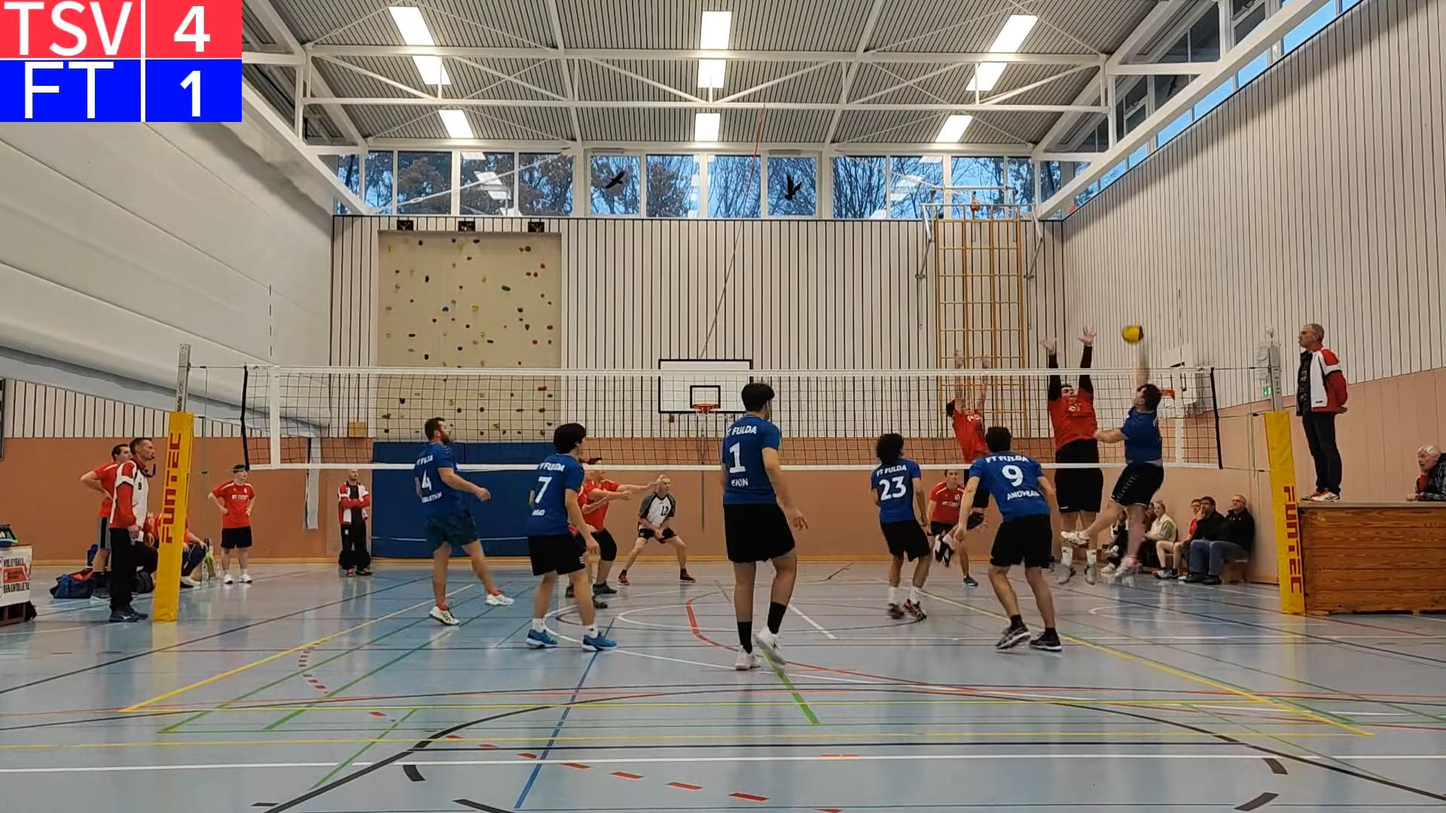Attack: (1065, 341, 1170, 585)
Block: (1039, 325, 1107, 575)
Player: (721, 382, 806, 670), (964, 427, 1060, 651), (413, 418, 513, 626), (525, 423, 615, 650), (578, 458, 653, 607), (871, 433, 930, 620), (619, 477, 695, 584), (929, 468, 977, 586), (945, 378, 987, 465)
ball: (1119, 323, 1147, 342)
